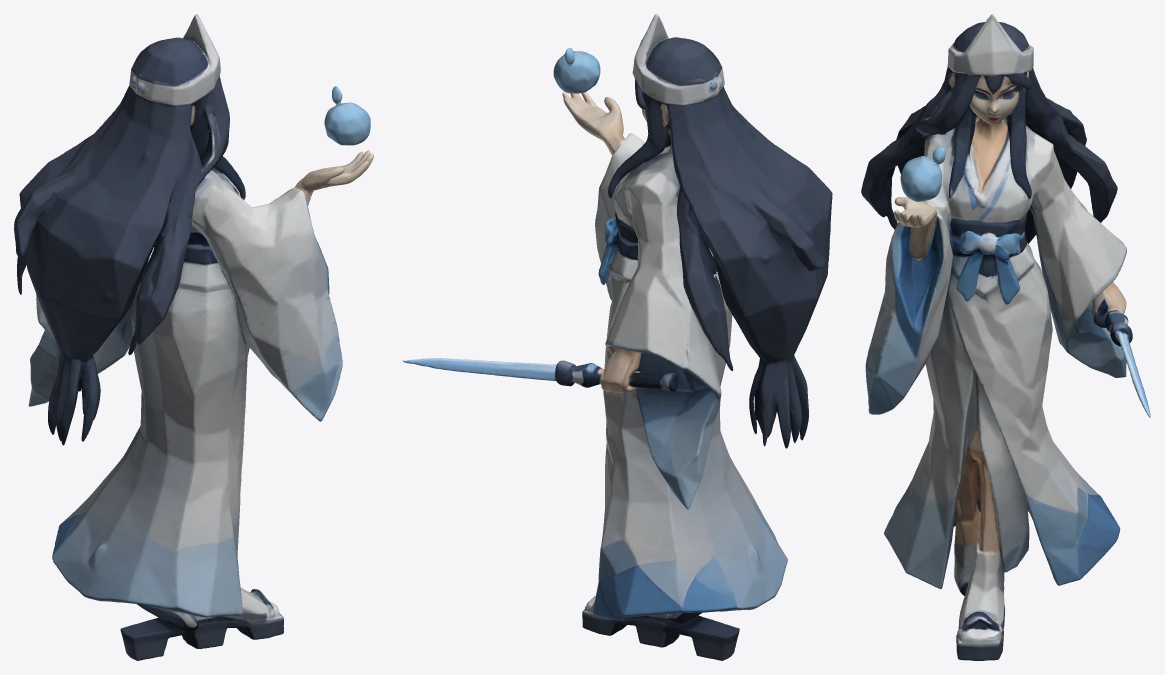
File: yuki_boss_balanced.glb
The picture shows the model from 3 angles, left to right: view 1: azimuth 30°, elevation 25°; view 2: azimuth 150°, elevation 25°; view 3: azimuth 270°, elevation 25°; orthographic projection. The views are drawn at different scales.
Parts seen in each view (by area): view 1: tripo_node_28015ffb-9acd-4cb8-be58-884118e12d34; view 2: tripo_node_28015ffb-9acd-4cb8-be58-884118e12d34; view 3: tripo_node_28015ffb-9acd-4cb8-be58-884118e12d34.
Part boxes in pixels (<box>): tripo_node_28015ffb-9acd-4cb8-be58-884118e12d34: <box>14,14,373,660</box>; tripo_node_28015ffb-9acd-4cb8-be58-884118e12d34: <box>403,14,832,660</box>; tripo_node_28015ffb-9acd-4cb8-be58-884118e12d34: <box>861,14,1150,660</box>.
Bounding box in the file's own units: 0.5769 × 1 × 0.4285.
Materials: 1 (1 with a texture image).
